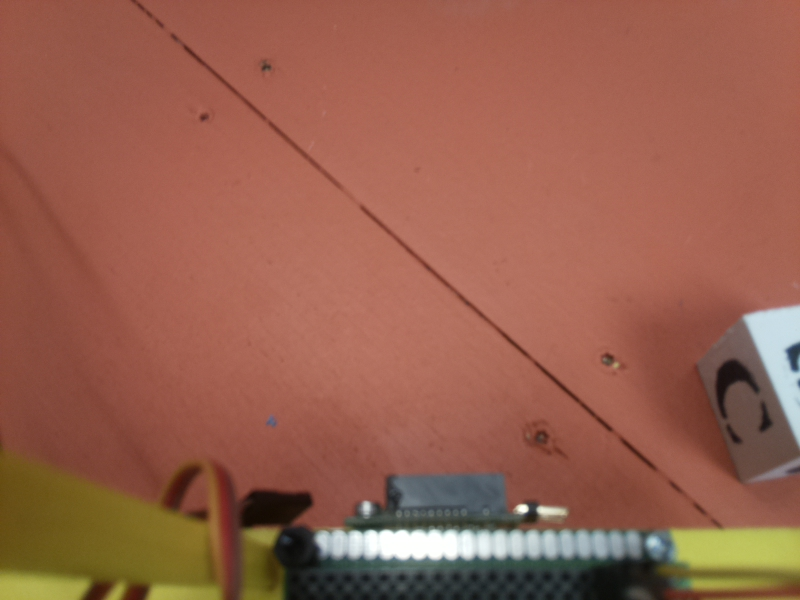blockC: (691, 304, 800, 484)
